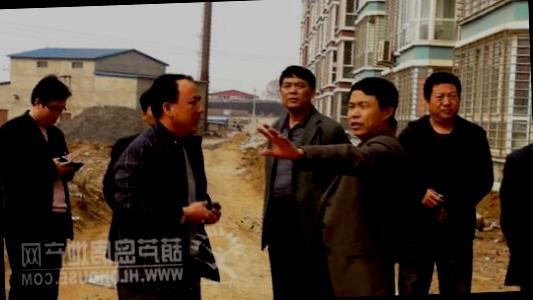no_helmet: (144, 69, 204, 140), (340, 72, 401, 138), (418, 68, 464, 123), (28, 74, 70, 128), (274, 65, 316, 114)
